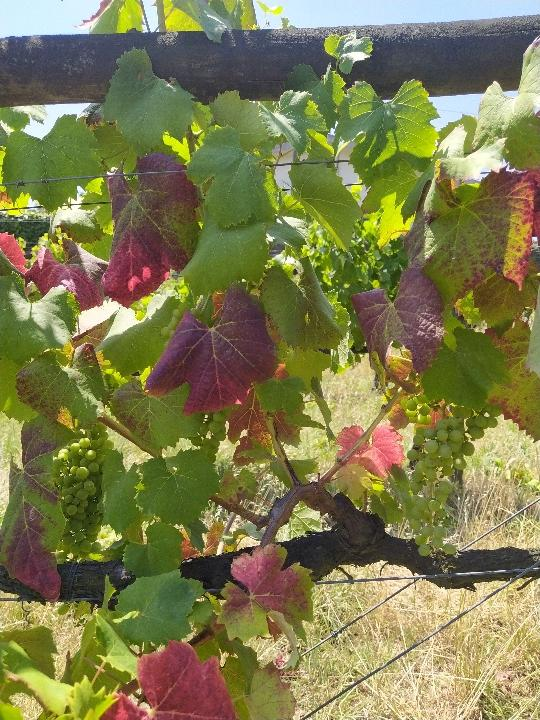grape: (394, 397, 503, 564), (48, 430, 115, 561)
